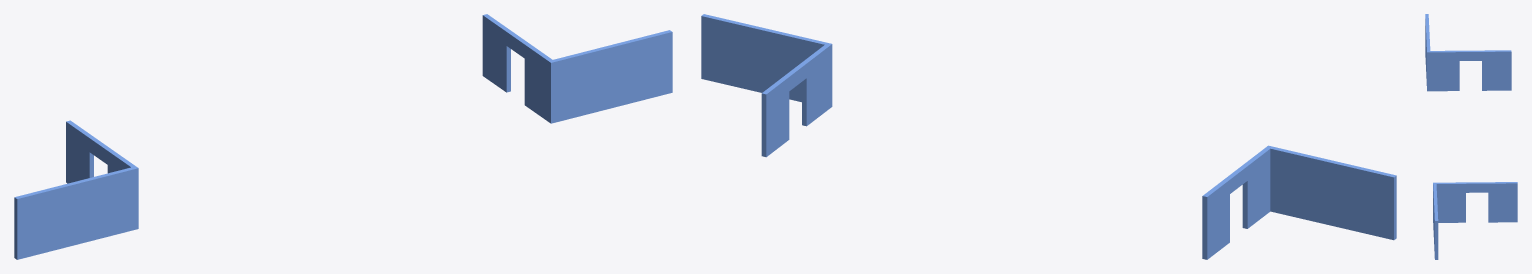
The model's file is WallsAlmacen_Tienda1.fbx.
3 views of the same model, side by side, from view 1: azimuth 30°, elevation 25°; view 2: azimuth 150°, elevation 25°; view 3: azimuth 270°, elevation 25° (orthographic). The views are drawn at different scales.
Visible parts, largest first — view 1: Walls_Almacen.001, Walls_Almacen; view 2: Walls_Almacen, Walls_Almacen.001; view 3: Walls_Almacen, Walls_Almacen.001.
Boxes of the visible parts, x1,y1,x2,y2 form: Walls_Almacen.001: (482,14,672,123); Walls_Almacen: (14,120,138,259); Walls_Almacen: (1202,145,1396,259); Walls_Almacen.001: (701,14,832,157); Walls_Almacen: (1425,14,1511,91); Walls_Almacen.001: (1433,182,1517,259).
Size of the model in its own units: 1601 by 140 by 302.
